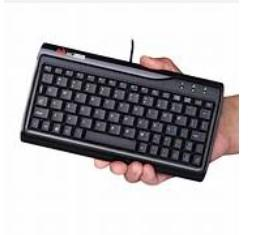Keyboard: (20, 43, 223, 181)
